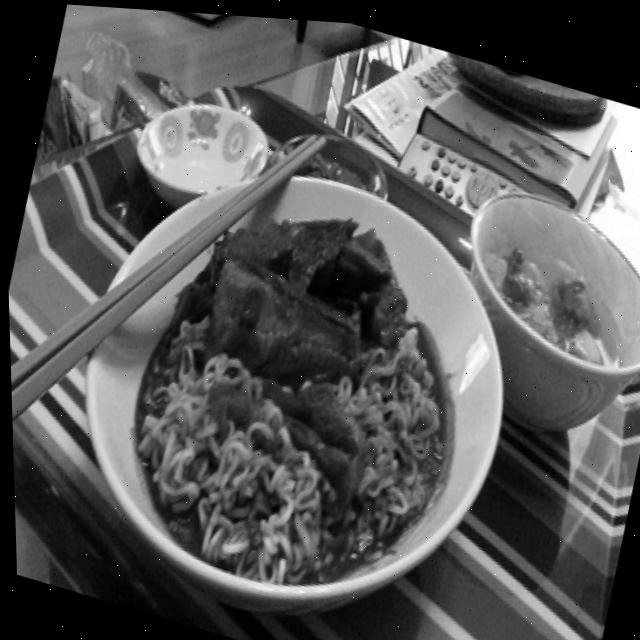面条主食: (27, 84, 568, 640)
